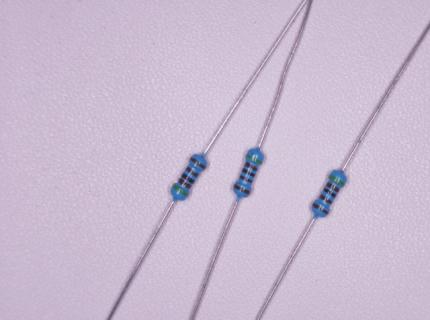Black band: (181, 172, 196, 185), (322, 187, 337, 198), (242, 167, 256, 178)
Brown band: (189, 156, 207, 170), (311, 202, 330, 215), (232, 183, 251, 196), (177, 178, 193, 190), (325, 181, 340, 193), (185, 166, 200, 178), (244, 161, 258, 172), (319, 194, 333, 205), (239, 174, 254, 184)
Green band: (327, 174, 346, 188), (172, 183, 190, 197), (245, 153, 262, 165)
